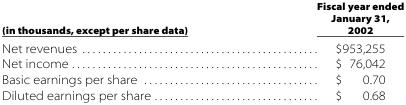table: (1, 0, 403, 101)
table column: (1, 0, 251, 101), (251, 0, 403, 101)
table column header: (1, 0, 403, 38)
table row: (1, 0, 403, 38), (1, 38, 403, 55), (1, 55, 403, 71), (1, 71, 403, 87), (1, 87, 403, 101)
